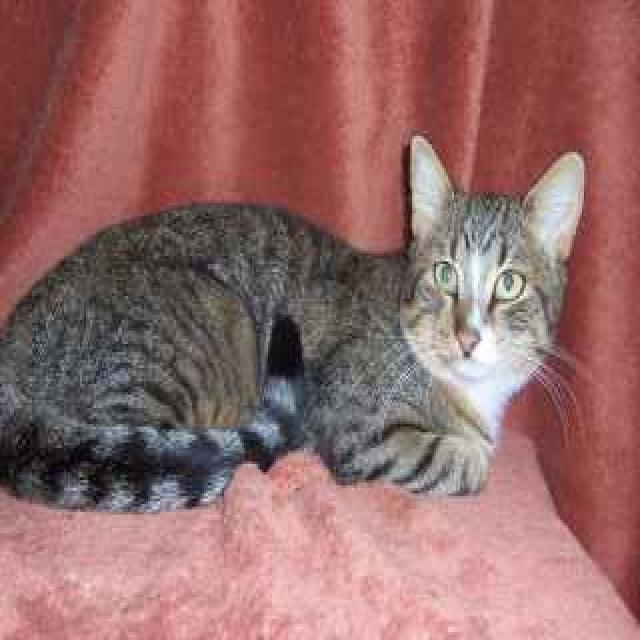cat: (0, 144, 597, 508)
